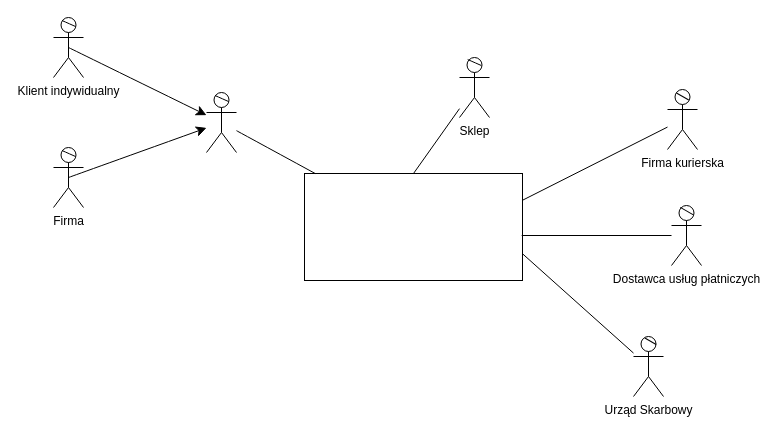
The diagram is 777 pixels wide and 435 high, and some of its shapes have lost their labels. Here are the shapes that lost their labels. From the top down, the centre of each, then its label:
At [221,122]: "Klient".
At [413,226]: "Sklep online".
